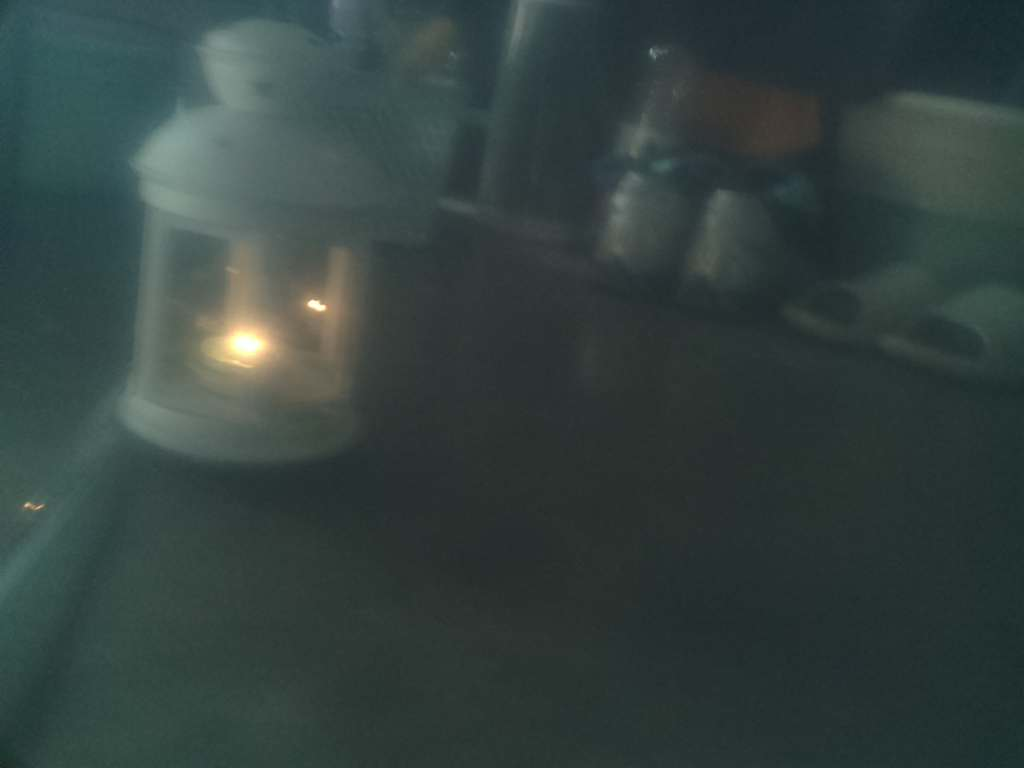fire: (201, 306, 288, 382)
